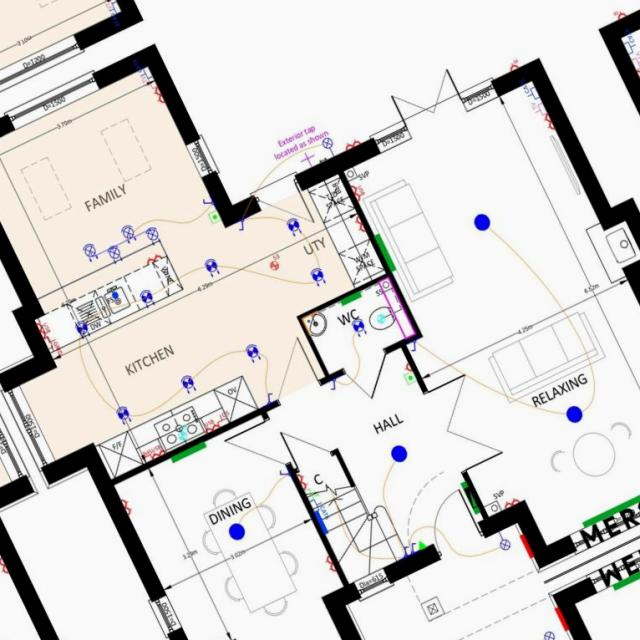BT Entry Point: (418, 540, 425, 550)
Cat 6 Data Socket: (309, 499, 328, 519), (521, 80, 538, 99), (135, 60, 151, 78), (622, 32, 635, 52), (108, 0, 120, 21)
Ceiling Mounted Continuous Extract FanWith Boost Mode Activated By Light Switch: (376, 312, 384, 322)
Ceiling Mounted Continuous Extract FanWith Local Boost Switch: (269, 253, 280, 270)
Co-Ax TV Socket: (530, 101, 546, 115), (140, 75, 156, 88), (631, 50, 640, 69), (103, 0, 114, 8)
Consumer Unit: (463, 486, 476, 508)
Double Socket: (151, 86, 164, 103), (542, 112, 555, 128), (324, 555, 336, 571), (504, 497, 520, 509), (120, 498, 131, 514), (345, 138, 359, 150), (146, 253, 161, 264), (296, 473, 306, 489), (354, 215, 364, 231), (0, 556, 8, 573), (636, 70, 640, 86)
Electric Meter Box: (554, 606, 568, 631), (519, 533, 532, 557)
External Wall Light: (321, 136, 336, 156), (497, 530, 510, 550), (543, 631, 556, 640)
Grid Switch: (42, 336, 62, 356)
Light Switch: (400, 545, 409, 557), (237, 218, 245, 230), (202, 197, 212, 206), (329, 378, 337, 389), (410, 339, 416, 352), (409, 542, 416, 553), (266, 392, 272, 403), (278, 469, 288, 475)
Low Energy Downlighter: (309, 267, 325, 286), (180, 374, 196, 393), (74, 320, 90, 338), (138, 289, 154, 307), (204, 258, 220, 276), (286, 217, 301, 236), (245, 343, 260, 362), (351, 317, 365, 336), (116, 406, 130, 424)
Low Energy Pendant Light: (473, 213, 490, 230), (565, 405, 582, 422), (389, 445, 407, 461), (228, 523, 245, 539)
Outside Socket: (612, 9, 626, 19), (509, 59, 519, 70)
Outside Tap: (300, 150, 314, 168)
Oven Switch: (217, 410, 230, 426)
Programmable Room Thermostat: (403, 371, 415, 384), (207, 210, 220, 222)
Radiator: (581, 486, 640, 526), (611, 559, 640, 590), (374, 233, 395, 271), (170, 441, 206, 462), (459, 480, 478, 513), (338, 292, 362, 305)
Recirculating Extractor Fan: (177, 424, 187, 440)
Single Socket: (404, 362, 411, 371)
Telephone Socket: (304, 487, 318, 501)
Track Light: (82, 223, 159, 263)
USB Double Socket: (35, 322, 49, 338), (204, 418, 218, 434), (150, 444, 166, 458), (350, 184, 364, 200)
Underfloor Heating Manifold: (313, 510, 327, 534)
Water Entry Position: (111, 291, 118, 297)
